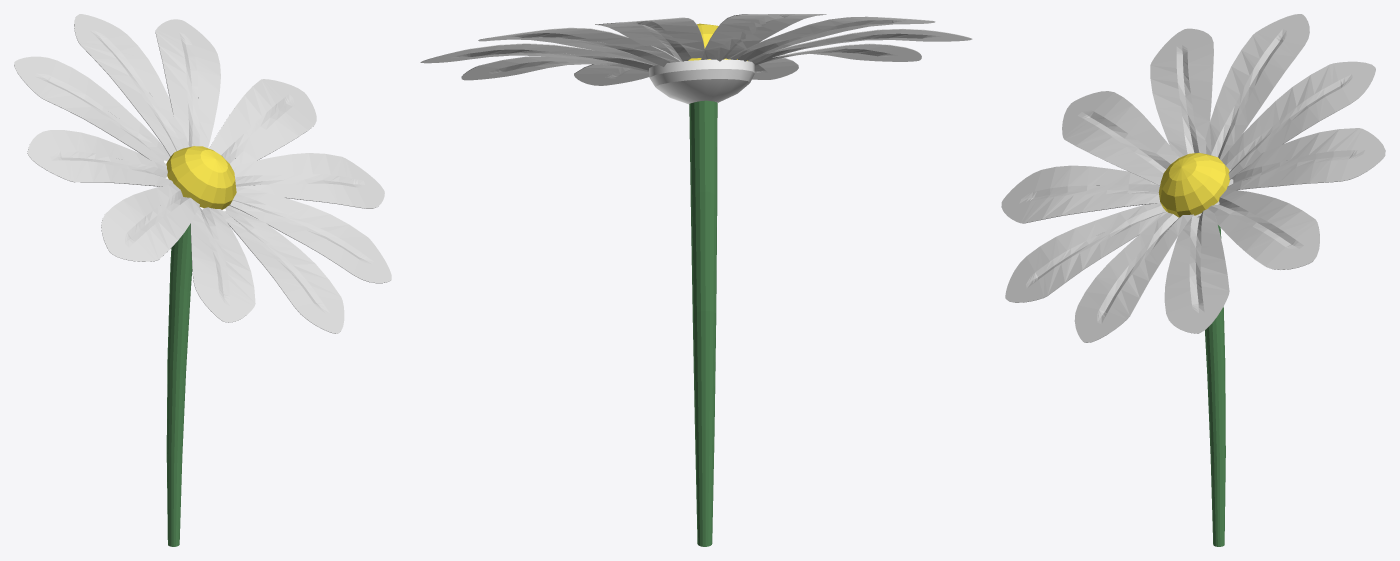
Rendered from flower2.glb.
3 renders of one model, left to right at view 1: azimuth 30°, elevation 25°; view 2: azimuth 150°, elevation 25°; view 3: azimuth 270°, elevation 25°, orthographic. The views are drawn at different scales.
Visible parts, largest first — view 1: Line30, Line23, Line24, Line26, Line25, Line29, Stengel_01, Line22, Line28, Line27, Line21, Sphere03; view 2: Stengel_01, Cylinder05, Line25, Line22, Line26, Line24, Line27, Line21, Line23, Line28, Line30, Line29; view 3: Line22, Line26, Line27, Line28, Line21, Line29, Line25, Line30, Line24, Line23, Stengel_01, Sphere03.
Boxes of the visible parts, box(x1,y1,x2,y2) form: Line30: box(229, 186, 391, 283); Line23: box(233, 153, 384, 208); Line24: box(209, 79, 316, 168); Line26: box(74, 14, 189, 156); Line25: box(155, 19, 220, 147); Line29: box(217, 205, 344, 333); Stengel_01: box(166, 224, 192, 546); Line22: box(14, 56, 169, 167); Line28: box(190, 206, 255, 322); Line27: box(27, 130, 173, 186); Line21: box(101, 184, 199, 261); Sphere03: box(166, 146, 236, 209); Stengel_01: box(689, 100, 717, 546); Cylinder05: box(649, 59, 754, 104); Line25: box(478, 27, 680, 66); Line22: box(701, 14, 826, 61); Line26: box(595, 17, 704, 61); Line24: box(420, 43, 654, 70); Line27: box(728, 16, 935, 61); Line21: box(750, 29, 972, 63); Line23: box(461, 56, 648, 80); Line28: box(754, 43, 921, 65); Line30: box(574, 64, 649, 85); Line29: box(752, 58, 798, 79); Line22: box(1205, 14, 1309, 160); Line26: box(1221, 61, 1375, 179); Line27: box(1150, 28, 1213, 157); Line28: box(1001, 165, 1160, 223); Line21: box(1062, 91, 1179, 185); Line29: box(1005, 203, 1167, 302); Line25: box(1226, 128, 1385, 190); Line30: box(1074, 212, 1193, 342); Line24: box(1208, 190, 1319, 269); Line23: box(1164, 209, 1229, 333); Stengel_01: box(1205, 225, 1225, 546); Sphere03: box(1158, 153, 1229, 217).
Size of the model in its own units: 144 by 182 by 134.
